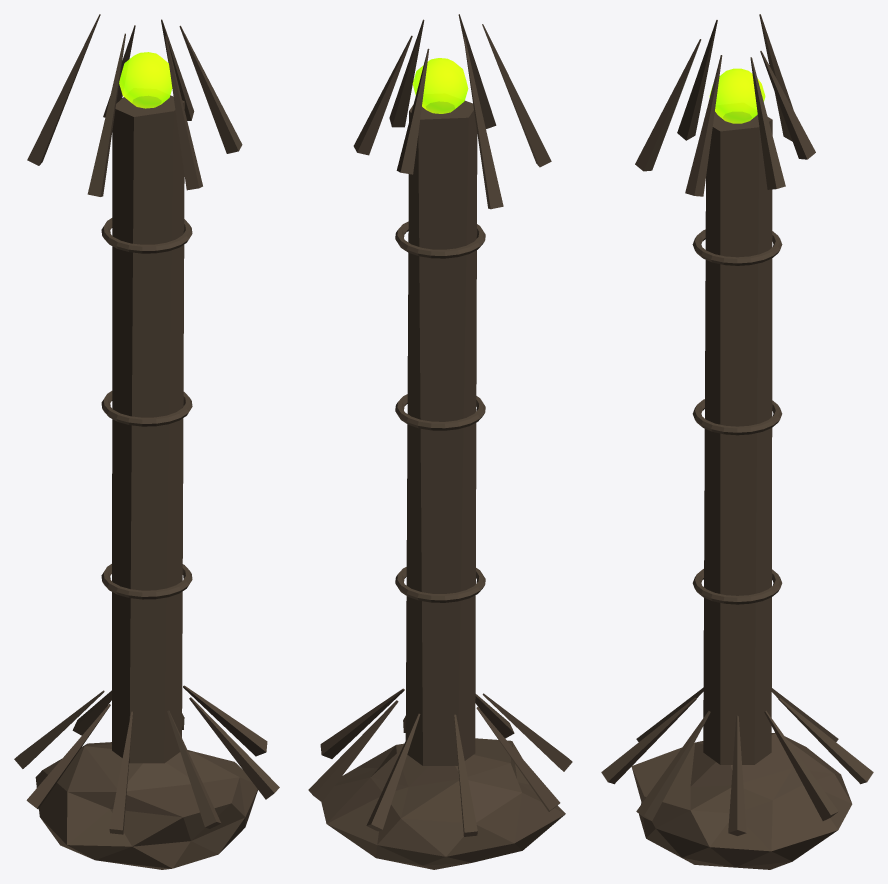
File: verdant_spore_spire.glb
3 views of the same model, side by side, from view 1: azimuth 30°, elevation 25°; view 2: azimuth 150°, elevation 25°; view 3: azimuth 270°, elevation 25° (orthographic). The views are drawn at different scales.
Parts seen in each view (by area): view 1: VerdantSporeSpire; view 2: VerdantSporeSpire; view 3: VerdantSporeSpire.
Part boxes in pixels (left/top/right/bottom): VerdantSporeSpire: left=14, top=14, right=279, bottom=869; VerdantSporeSpire: left=308, top=14, right=572, bottom=869; VerdantSporeSpire: left=601, top=14, right=873, bottom=869.
Bounding box in the file's own units: 1.75 × 5.81 × 1.75.
